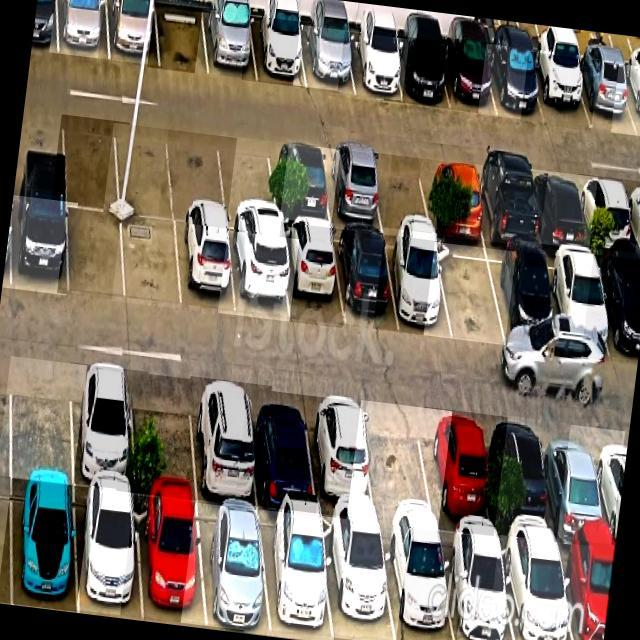empty: (361, 403, 438, 529), (131, 372, 198, 500), (11, 357, 73, 481), (435, 243, 505, 345), (217, 136, 278, 234), (113, 122, 173, 220), (169, 130, 226, 226), (122, 215, 180, 309), (62, 115, 118, 211), (67, 207, 124, 300), (371, 152, 432, 231), (155, 2, 209, 75)
occupied: (195, 503, 270, 633), (259, 511, 332, 640), (134, 495, 206, 625), (321, 517, 394, 640), (306, 395, 377, 520), (424, 408, 493, 536), (542, 421, 611, 547), (76, 486, 142, 617), (11, 480, 76, 611), (190, 380, 257, 507), (380, 527, 454, 640), (249, 388, 316, 512), (71, 362, 134, 491), (440, 531, 514, 640), (492, 415, 556, 541), (499, 537, 572, 640), (541, 250, 612, 355), (486, 248, 557, 347), (384, 235, 451, 338), (334, 229, 399, 329), (281, 223, 343, 326), (557, 542, 615, 640), (11, 195, 67, 295), (175, 223, 236, 314), (228, 231, 289, 321), (474, 164, 539, 247), (269, 142, 331, 224), (594, 254, 640, 364), (572, 56, 637, 133), (422, 159, 484, 238), (322, 147, 383, 227), (529, 52, 591, 129), (529, 169, 589, 248), (577, 174, 635, 253), (486, 44, 544, 122), (441, 39, 497, 115), (249, 16, 306, 88), (392, 37, 449, 108), (203, 8, 257, 81), (345, 31, 402, 100), (300, 25, 353, 92), (106, 0, 159, 65), (57, 0, 108, 59), (619, 64, 640, 134)
